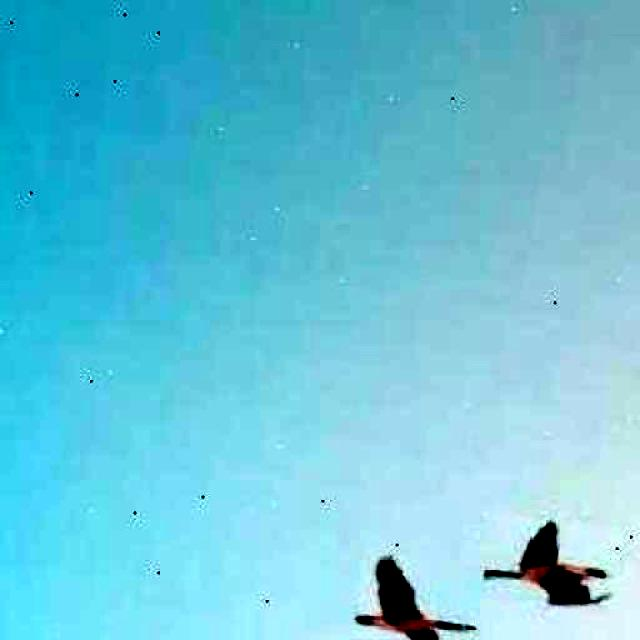airplane: (469, 511, 621, 615), (352, 550, 486, 640)
